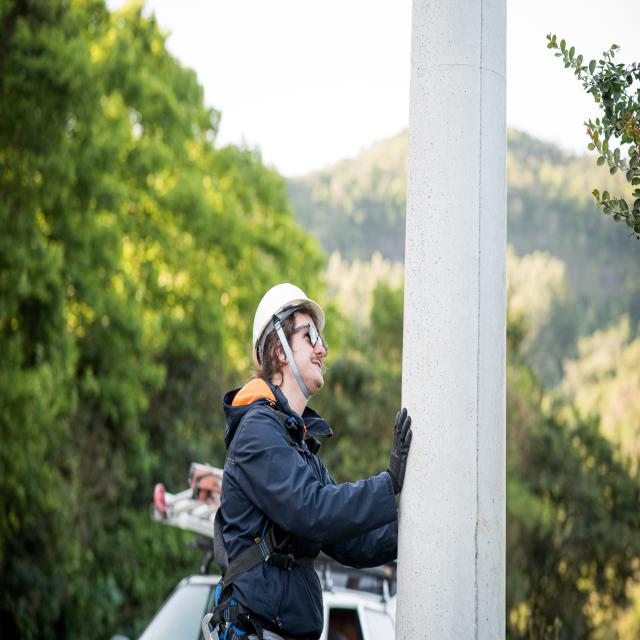capacete: (251, 281, 328, 373)
luva: (383, 405, 414, 499)
